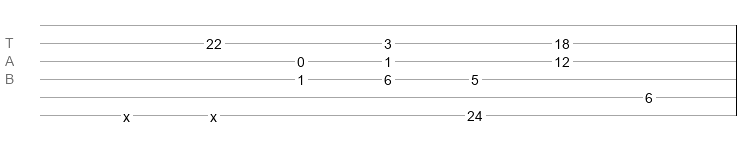0: (297, 54, 305, 64)
1: (297, 72, 305, 82), (384, 54, 392, 64)
12: (554, 54, 570, 64)
18: (554, 36, 570, 46)
22: (206, 36, 222, 46)
24: (467, 108, 483, 118)
3: (384, 36, 392, 46)
5: (471, 72, 479, 82)
6: (384, 72, 392, 82), (645, 90, 653, 100)
x: (123, 109, 130, 117), (210, 109, 217, 117)
